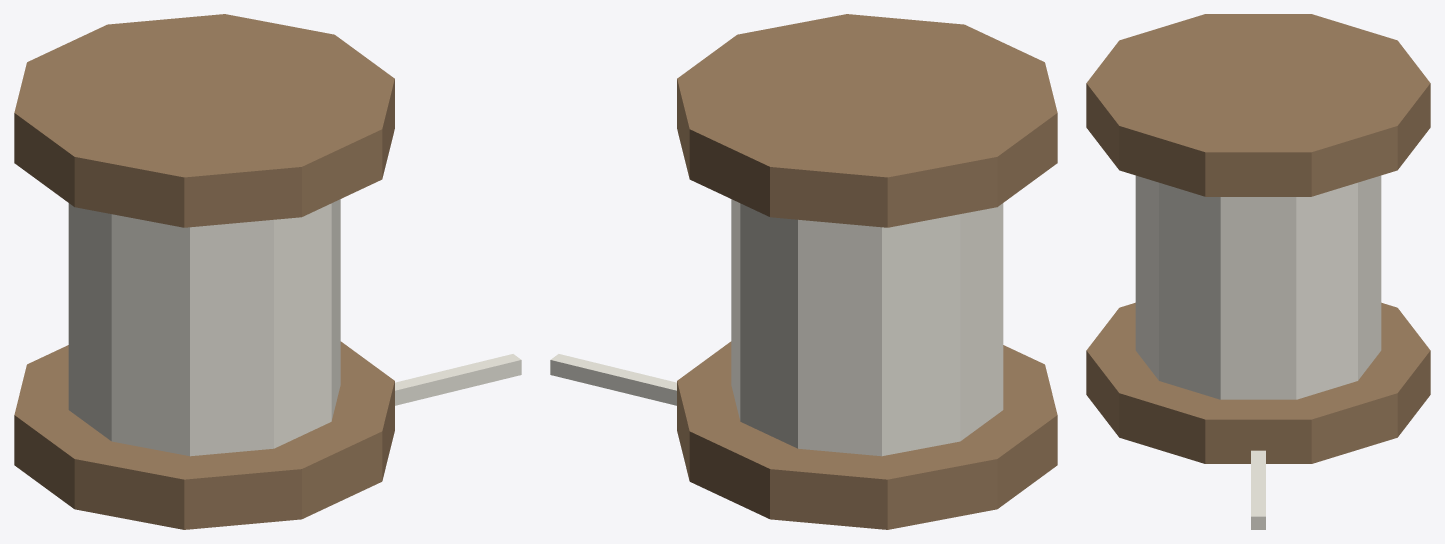
The model's file is prop-wick-spool-cm1.fbx.
The picture shows the model from 3 angles, left to right: view 1: azimuth 30°, elevation 25°; view 2: azimuth 150°, elevation 25°; view 3: azimuth 270°, elevation 25°; orthographic projection. The views are drawn at different scales.
Visible parts, largest first — view 1: prop-wick-spool-cm1; view 2: prop-wick-spool-cm1; view 3: prop-wick-spool-cm1.
Boxes of the visible parts, x1=… form: prop-wick-spool-cm1: x1=14, y1=14, x2=521, y2=529; prop-wick-spool-cm1: x1=550, y1=14, x2=1057, y2=529; prop-wick-spool-cm1: x1=1086, y1=14, x2=1430, y2=529.
Bounding box in the file's own units: 19.66 × 14 × 14.
